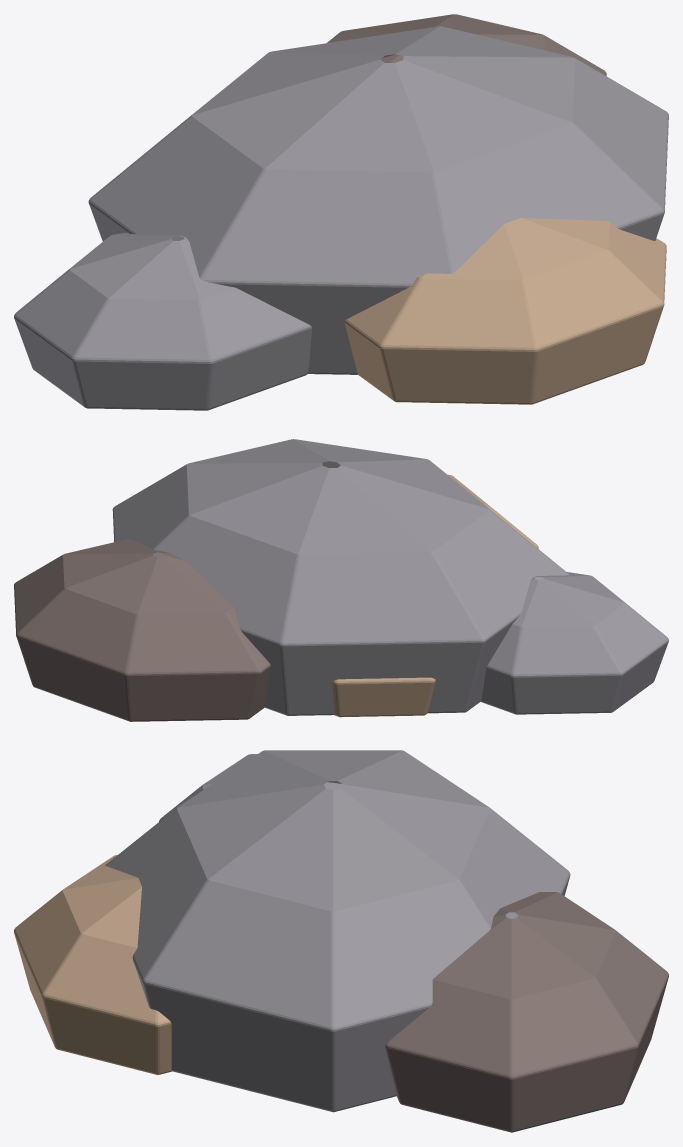
File: ashwick-riverbank-boulders.meshopt.glb
3 renders of one model, top to bottom at view 1: azimuth 30°, elevation 25°; view 2: azimuth 150°, elevation 25°; view 3: azimuth 270°, elevation 25°, orthographic. The views are drawn at different scales.
Parts seen in each view (by area): view 1: Weathered rock.003, Weathered rock.004, Weathered rock.005; view 2: Weathered rock.003, Weathered rock.005, Weathered rock.004; view 3: Weathered rock.003, Weathered rock.005, Weathered rock.004.
Part boxes in pixels (x1,y1,x2,y2): Weathered rock.003: (14, 26, 668, 410); Weathered rock.004: (344, 218, 666, 404); Weathered rock.005: (327, 14, 606, 75); Weathered rock.003: (112, 439, 668, 715); Weathered rock.005: (14, 538, 270, 721); Weathered rock.004: (332, 474, 538, 717); Weathered rock.003: (105, 750, 570, 1112); Weathered rock.005: (385, 892, 668, 1132); Weathered rock.004: (14, 855, 171, 1074).
Size of the model in its own units: 2.94 by 1.2 by 2.57.
